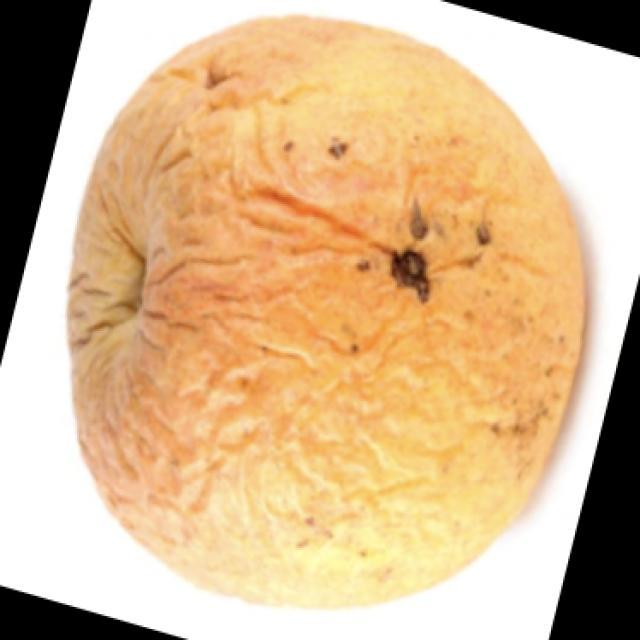Rotten: (80, 35, 587, 603)
